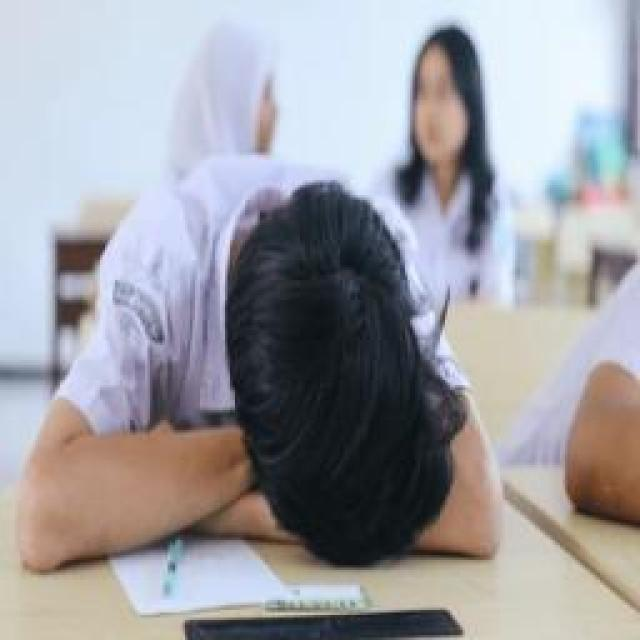sleep: (18, 162, 500, 572)
